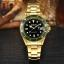watch: (18, 13, 51, 47)
